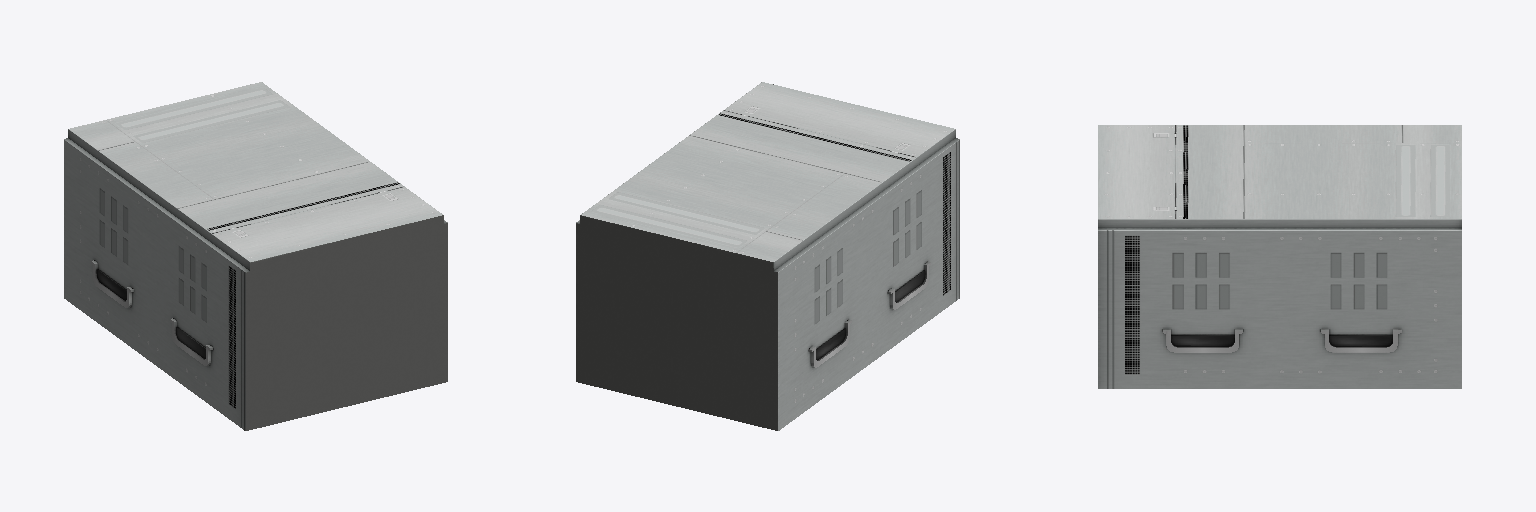
The picture shows the model from 3 angles: view 1: azimuth 30°, elevation 25°; view 2: azimuth 150°, elevation 25°; view 3: azimuth 270°, elevation 25°; orthographic projection.
Parts seen in each view (by area): view 1: Box06; view 2: Box06; view 3: Box06.
Part boxes in pixels (left/top/right/bottom): Box06: left=64, top=82, right=447, bottom=430; Box06: left=576, top=82, right=959, bottom=430; Box06: left=1098, top=125, right=1461, bottom=388.
Bounding box in the file's own units: 46.31 × 35.6 × 70.
1 materials, 1 textured.